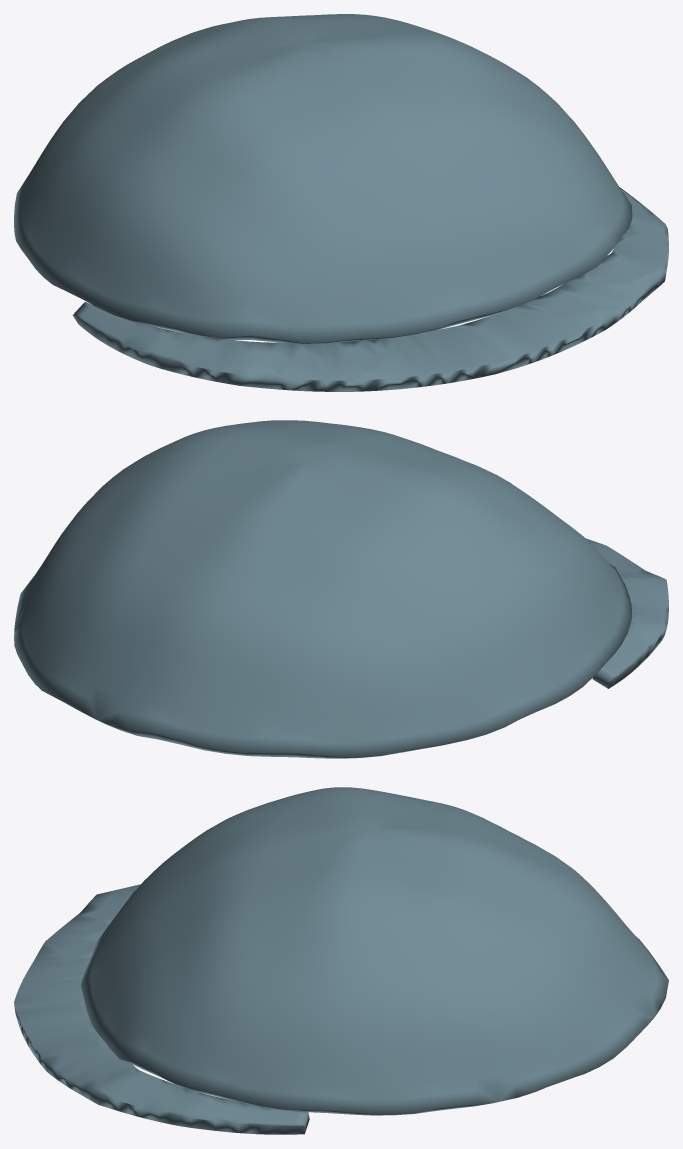
The model's file is 2HT-feminino.glb.
The picture shows the model from 3 angles, top to bottom: view 1: azimuth 30°, elevation 25°; view 2: azimuth 150°, elevation 25°; view 3: azimuth 270°, elevation 25°; orthographic projection. The views are drawn at different scales.
Parts seen in each view (by area): view 1: crown, shaped-brim; view 2: crown, shaped-brim; view 3: crown, shaped-brim.
Part boxes in pixels (left/top/right/bottom): crown: left=14, top=14, right=632, bottom=343; shaped-brim: left=72, top=187, right=668, bottom=391; crown: left=14, top=420, right=632, bottom=758; shaped-brim: left=586, top=538, right=668, bottom=688; crown: left=81, top=787, right=668, bottom=1115; shaped-brim: left=14, top=884, right=309, bottom=1134.
Bounding box in the file's own units: 0.0652 × 0.0226 × 0.0715.
